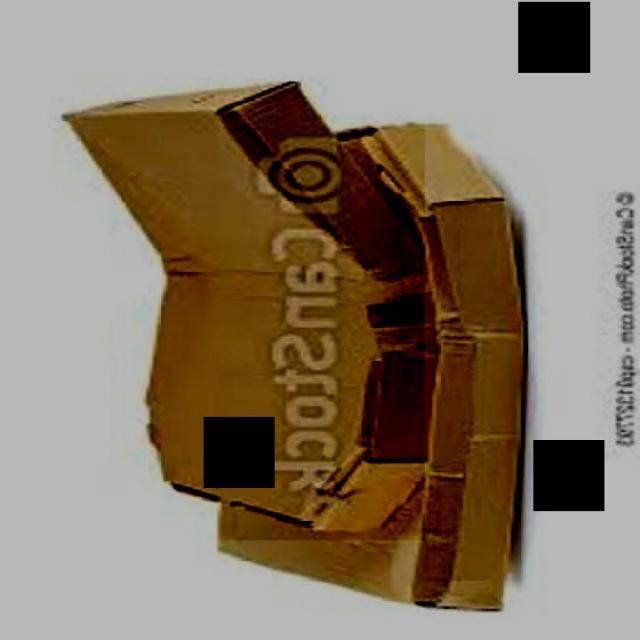box: (50, 82, 425, 540)
